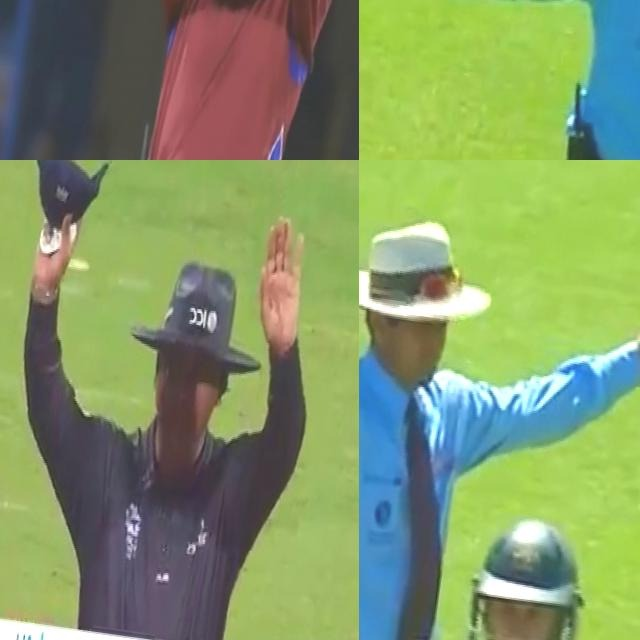No_Ball: (363, 0, 640, 160)
Six: (0, 160, 344, 640), (69, 0, 359, 160)
Wide: (359, 171, 640, 601)
